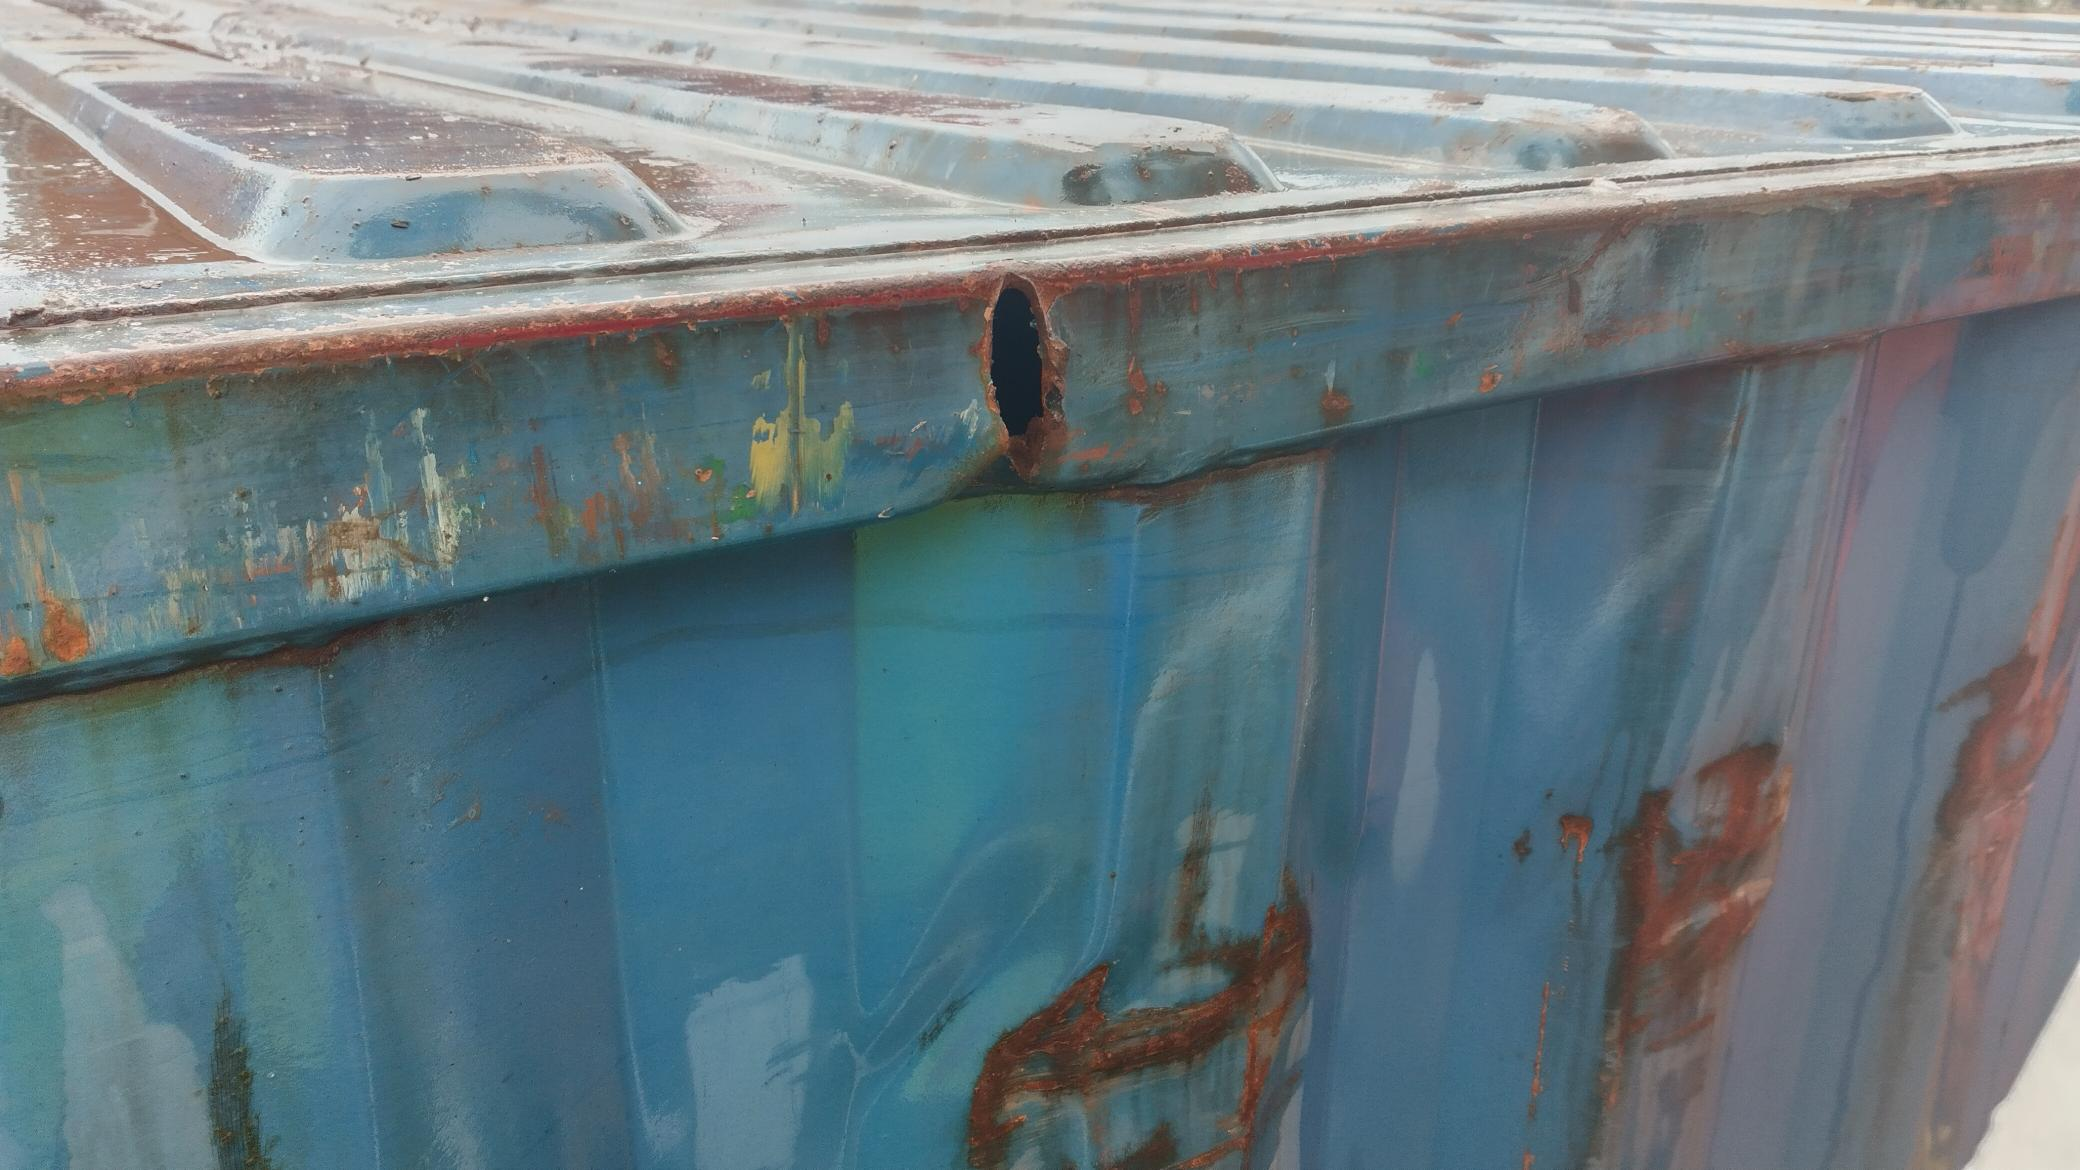severe: (919, 259, 1141, 500)
